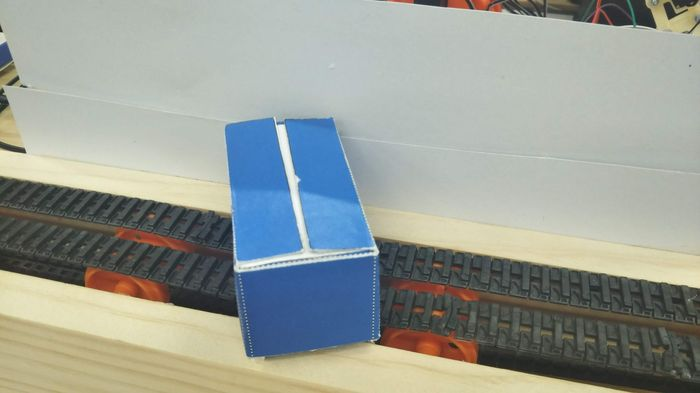box3: (220, 109, 387, 364)
